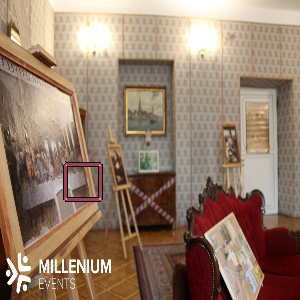square: (61, 161, 106, 204)
